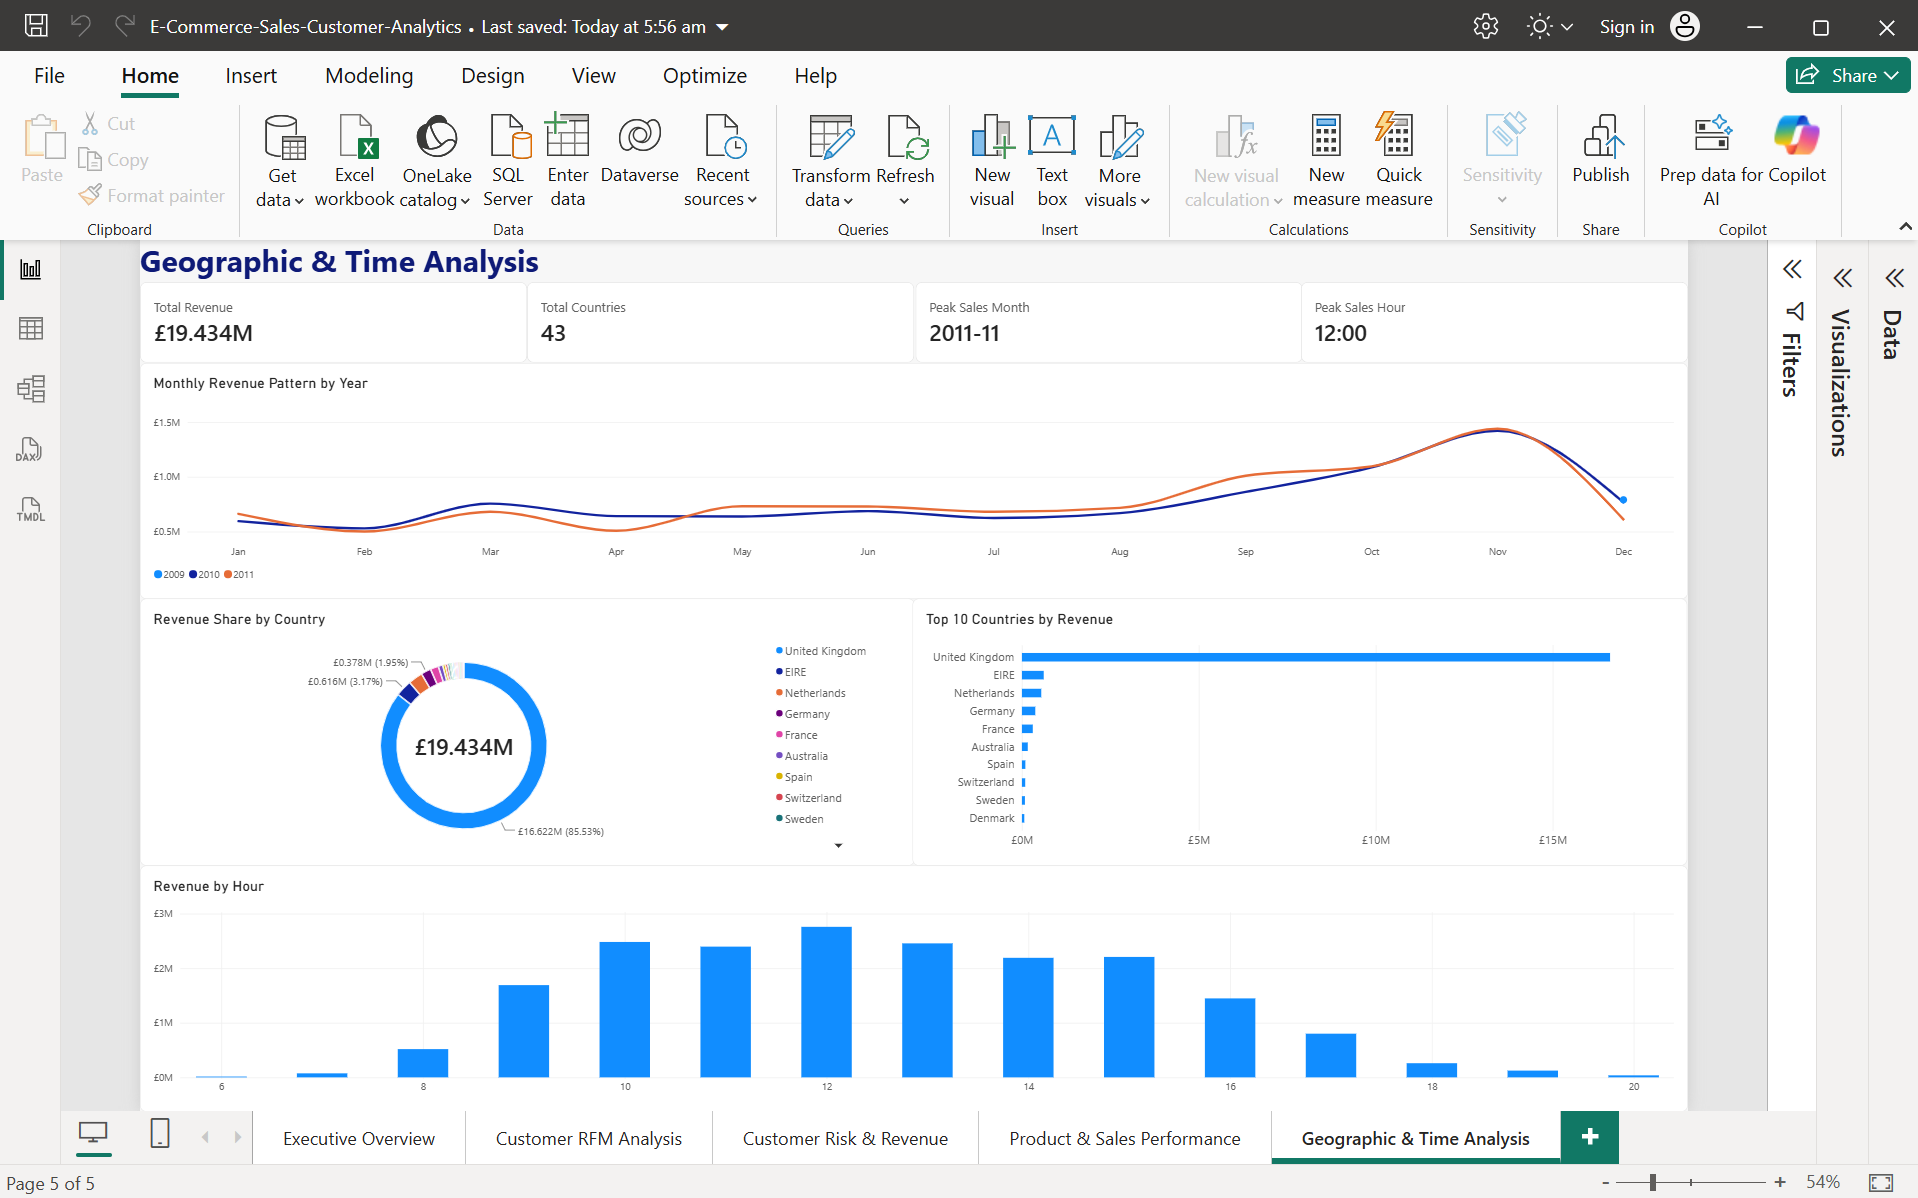

What the dashboard file says about the page in this screenshot:
{"tool":"powerbi","page":{"name":"Geographic & Time Analysis","canvas":[1920,1080],"ordinal":4},"visuals":[{"type":"cardVisual","fields":{"Data":["cleaned_sales.Total Revenue"]},"box":[0,52.2,480,100],"z":0},{"type":"textbox","box":[0,0,1919.3,50],"z":1},{"type":"cardVisual","fields":{"Data":["Date.Total Countries"]},"box":[479.2,52.2,480,100],"z":2},{"type":"cardVisual","fields":{"Data":["Date.Peak Sales Month"]},"box":[960.8,52.2,480,100],"z":3},{"type":"cardVisual","fields":{"Data":["cleaned_sales.Peak Sales Hour"]},"box":[1440,52.2,480,100],"z":4},{"type":"lineChart","title":"Monthly Revenue Pattern by Year","fields":{"Category":["Date.Month"],"Series":["Date.Year"],"Y":["cleaned_sales.Total Revenue"]},"box":[0,152.2,1919.3,293],"z":5},{"type":"donutChart","title":"Revenue Share by Country","fields":{"Category":["cleaned_sales.country"],"Y":["cleaned_sales.Total Revenue"]},"box":[0,444.5,960.8,331.6],"z":6},{"type":"clusteredBarChart","title":"Top 10 Countries by Revenue","fields":{"Category":["cleaned_sales.country"],"Y":["cleaned_sales.Total Revenue"]},"box":[958.5,445.2,960.8,331.6],"z":7},{"type":"clusteredColumnChart","title":"Revenue by Hour","fields":{"Category":["cleaned_sales.Sales Hour"],"Y":["cleaned_sales.Total Revenue"]},"box":[0,775.6,1919.5,305],"z":8}]}

Visuals, with their boxes on the page's 1920x1080 design canvas (x1, y1, x2, y2). These are canvas units, not pixel positions in the 1918x1198 screenshot, which may show the page scaled, cropped or inside an application window:
cardVisual - cleaned_sales.Total Revenue: crop(0, 52, 480, 152)
textbox: crop(0, 0, 1919, 50)
cardVisual - Date.Total Countries: crop(479, 52, 959, 152)
cardVisual - Date.Peak Sales Month: crop(961, 52, 1441, 152)
cardVisual - cleaned_sales.Peak Sales Hour: crop(1440, 52, 1920, 152)
"Monthly Revenue Pattern by Year" lineChart: crop(0, 152, 1919, 445)
"Revenue Share by Country" donutChart: crop(0, 444, 961, 776)
"Top 10 Countries by Revenue" clusteredBarChart: crop(958, 445, 1919, 777)
"Revenue by Hour" clusteredColumnChart: crop(0, 776, 1920, 1081)
